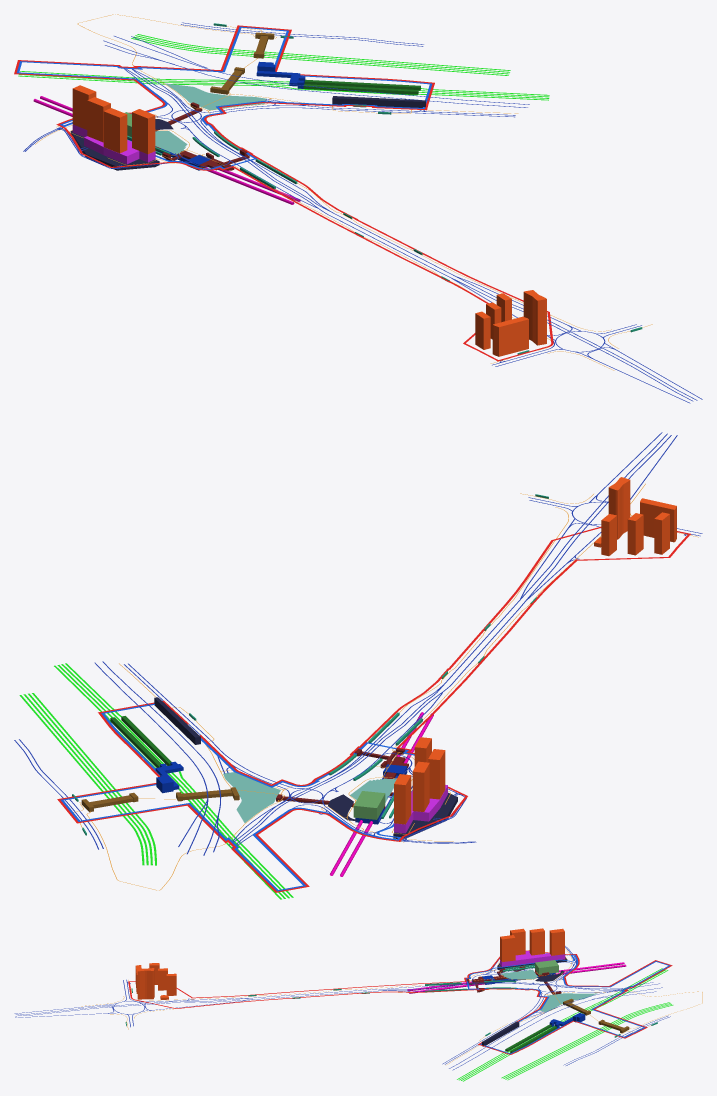
The model's file is MODEL_LAYERS.fbx.
3 renders of one model, top to bottom at view 1: azimuth 30°, elevation 25°; view 2: azimuth 150°, elevation 25°; view 3: azimuth 270°, elevation 25°, orthographic. The views are drawn at different scales.
Parts seen in each view (by area): view 1: L_Traffic_Car, L_RailRoad_Path, L_Border_PPT, L_Apartments_South, L_Apartments_North, L_Border_GRZO, L_ORP2, L_Pedestrian_traffic, L_Perrons, L_BusStops, L_Metro_Tunnels, L_Pedestrian_Underground (+4 smaller); view 2: L_Traffic_Car, L_Border_PPT, L_Apartments_South, L_RailRoad_Path, L_Apartments_North, L_Border_GRZO, L_ORP2, L_Pedestrian_traffic, L_Underground_CrossRails, L_Perrons, L_BusStops, L_Pedestrian_Underground (+3 smaller); view 3: L_Traffic_Car, L_Border_PPT, L_RailRoad_Path, L_Apartments_North, L_Apartments_South, L_Border_GRZO, L_ORP2, L_Pedestrian_traffic, L_Metro_Tunnels, L_BusStops, L_Pedestrian_Underground, L_Perrons (+3 smaller).
Boxes of the visible parts, x1=… form: L_Traffic_Car: x1=23, y1=22, x2=702, y2=403; L_RailRoad_Path: x1=18, y1=34, x2=549, y2=100; L_Border_PPT: x1=14, y1=25, x2=553, y2=361; L_Apartments_South: x1=475, y1=290, x2=546, y2=356; L_Apartments_North: x1=72, y1=85, x2=155, y2=154; L_Border_GRZO: x1=17, y1=26, x2=432, y2=169; L_ORP2: x1=155, y1=83, x2=266, y2=154; L_Pedestrian_traffic: x1=35, y1=14, x2=652, y2=370; L_Perrons: x1=303, y1=79, x2=420, y2=94; L_BusStops: x1=127, y1=23, x2=642, y2=354; L_Metro_Tunnels: x1=33, y1=96, x2=300, y2=204; L_Pedestrian_Underground: x1=155, y1=102, x2=249, y2=170; L_Traffic_Car: x1=14, y1=432, x2=702, y2=855; L_Border_PPT: x1=57, y1=526, x2=690, y2=892; L_Apartments_South: x1=594, y1=477, x2=676, y2=556; L_RailRoad_Path: x1=19, y1=663, x2=293, y2=899; L_Apartments_North: x1=394, y1=737, x2=445, y2=824; L_Border_GRZO: x1=60, y1=703, x2=414, y2=891; L_ORP2: x1=223, y1=772, x2=396, y2=822; L_Pedestrian_traffic: x1=74, y1=483, x2=698, y2=890; L_Underground_CrossRails: x1=81, y1=787, x2=239, y2=812; L_Perrons: x1=110, y1=716, x2=171, y2=767; L_BusStops: x1=72, y1=494, x2=548, y2=835; L_Pedestrian_Underground: x1=276, y1=748, x2=408, y2=809; L_Traffic_Car: x1=14, y1=946, x2=670, y2=1070; L_Border_PPT: x1=128, y1=950, x2=672, y2=1054; L_RailRoad_Path: x1=457, y1=968, x2=673, y2=1081; L_Apartments_North: x1=500, y1=928, x2=564, y2=961; L_Apartments_South: x1=135, y1=963, x2=176, y2=999; L_Border_GRZO: x1=465, y1=954, x2=670, y2=1054; L_ORP2: x1=500, y1=969, x2=597, y2=1012; L_Pedestrian_traffic: x1=81, y1=948, x2=702, y2=1064; L_Metro_Tunnels: x1=407, y1=962, x2=626, y2=993; L_BusStops: x1=125, y1=964, x2=657, y2=1037; L_Pedestrian_Underground: x1=466, y1=966, x2=561, y2=994; L_Perrons: x1=505, y1=1024, x2=556, y2=1053.
Bounding box in the file's own units: 1093 × 118 × 2252.
